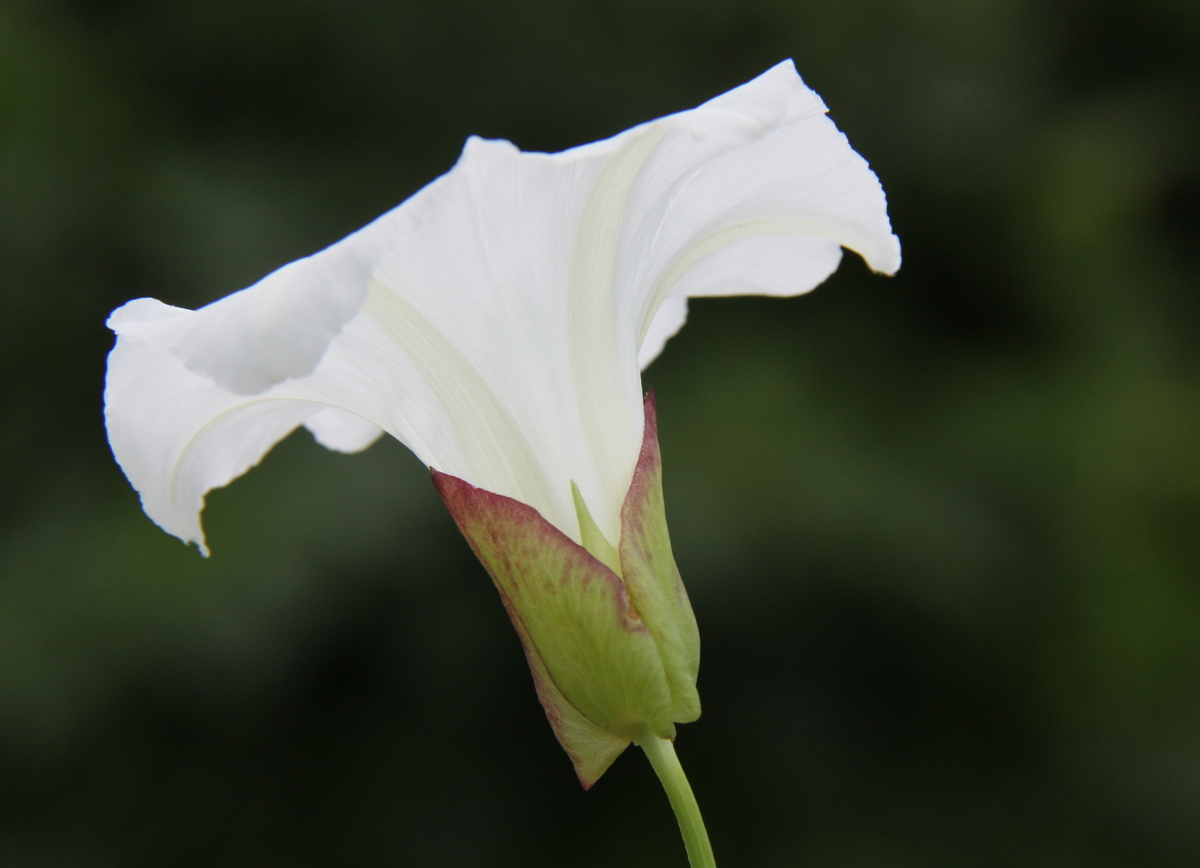haagwinde: (79, 45, 936, 774)
